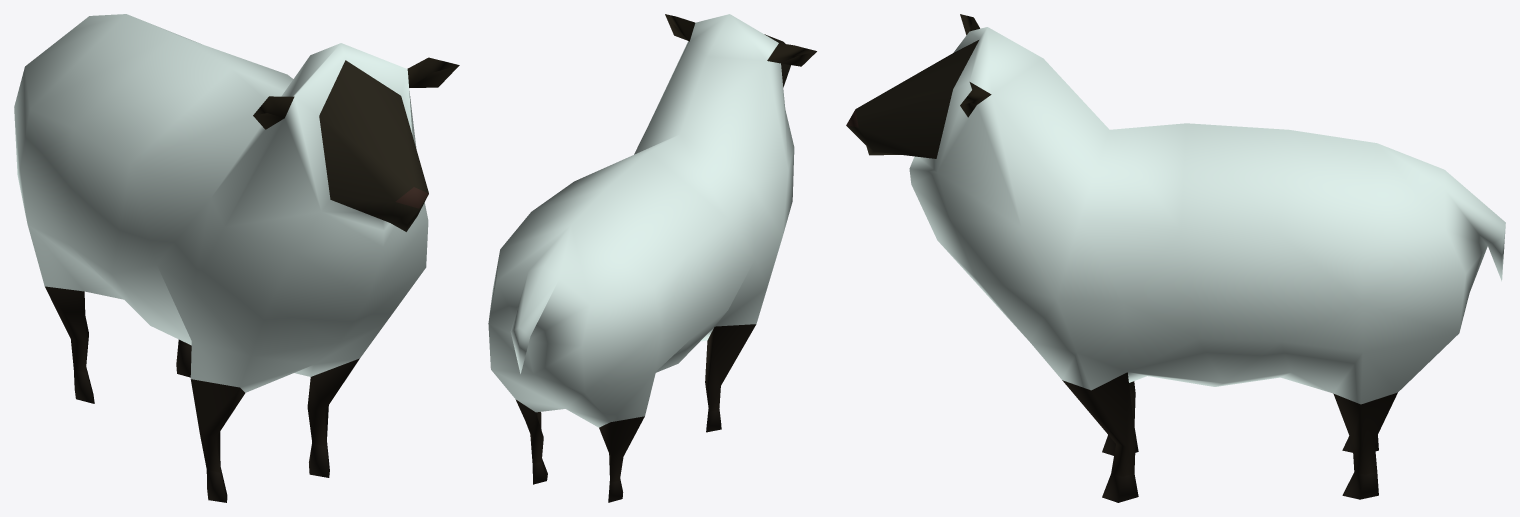
File: sheep-ver2.glb
The picture shows the model from 3 angles, left to right: view 1: azimuth 30°, elevation 25°; view 2: azimuth 150°, elevation 25°; view 3: azimuth 270°, elevation 25°; orthographic projection. The views are drawn at different scales.
Parts seen in each view (by area): view 1: Sheep-ver2_Texture-base_0; view 2: Sheep-ver2_Texture-base_0; view 3: Sheep-ver2_Texture-base_0.
Part boxes in pixels (x1,y1,x2,y2): Sheep-ver2_Texture-base_0: (14,14,459,502); Sheep-ver2_Texture-base_0: (488,14,816,502); Sheep-ver2_Texture-base_0: (846,14,1505,502).
Bounding box in the file's own units: 0.4199 × 0.8672 × 1.15.
1 material, 1 textured.
